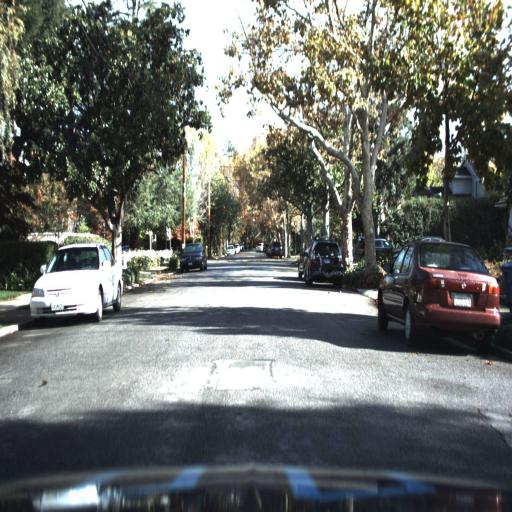car: (370, 241, 503, 349), (29, 243, 124, 323), (303, 247, 345, 294), (179, 241, 204, 271), (295, 245, 308, 282), (269, 238, 283, 259)
